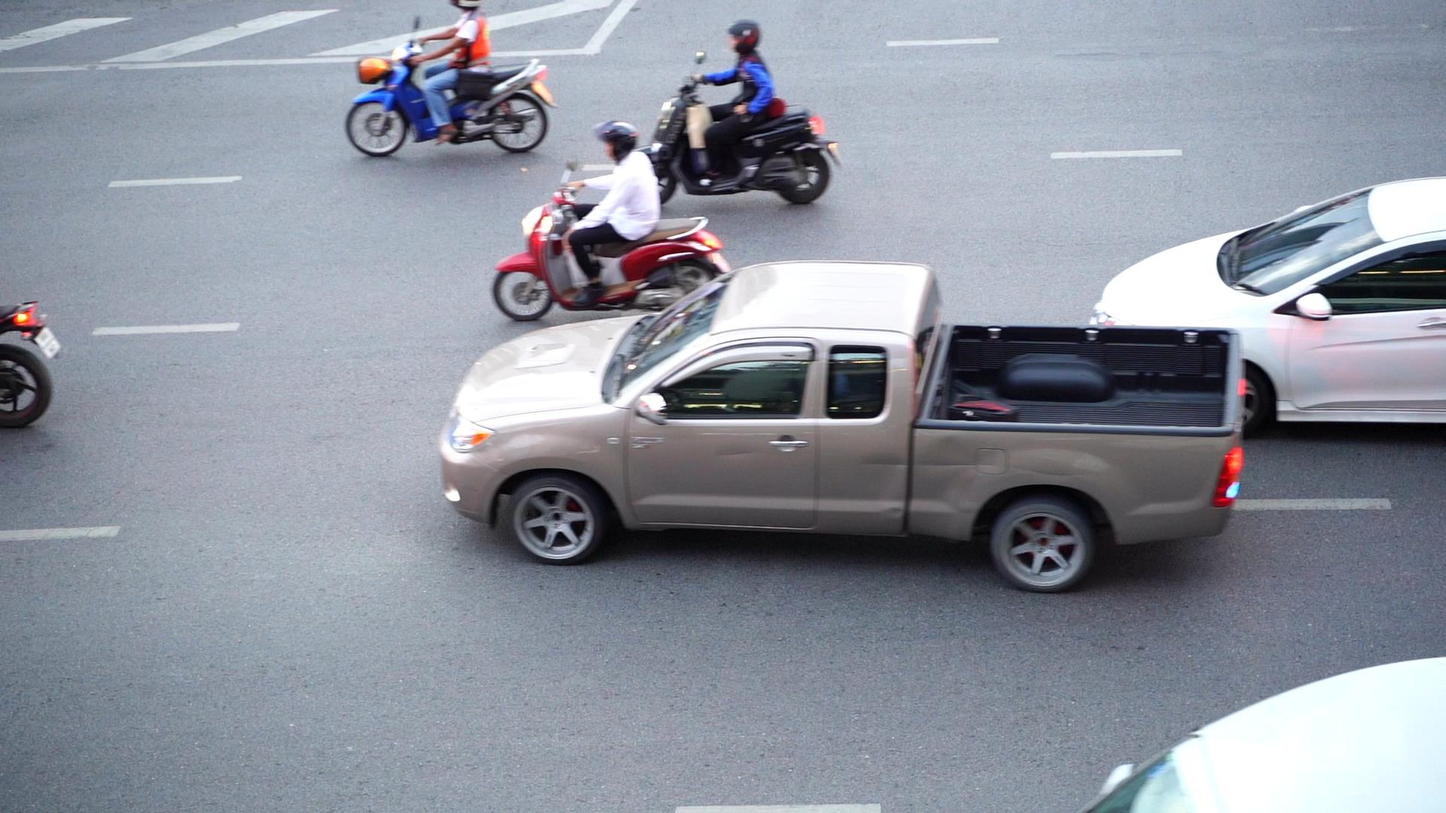driver: (492, 119, 729, 321), (630, 19, 838, 206), (345, 0, 557, 156)
helmet: (593, 119, 639, 159), (726, 19, 760, 54)
